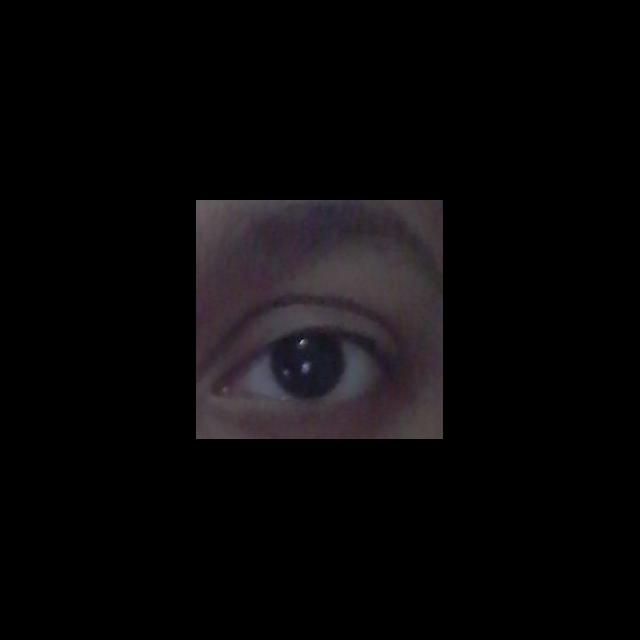eye: (232, 336, 384, 404)
iris: (266, 338, 346, 398)
